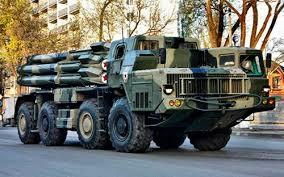MIL_SAM_TEL: (15, 36, 270, 152)
